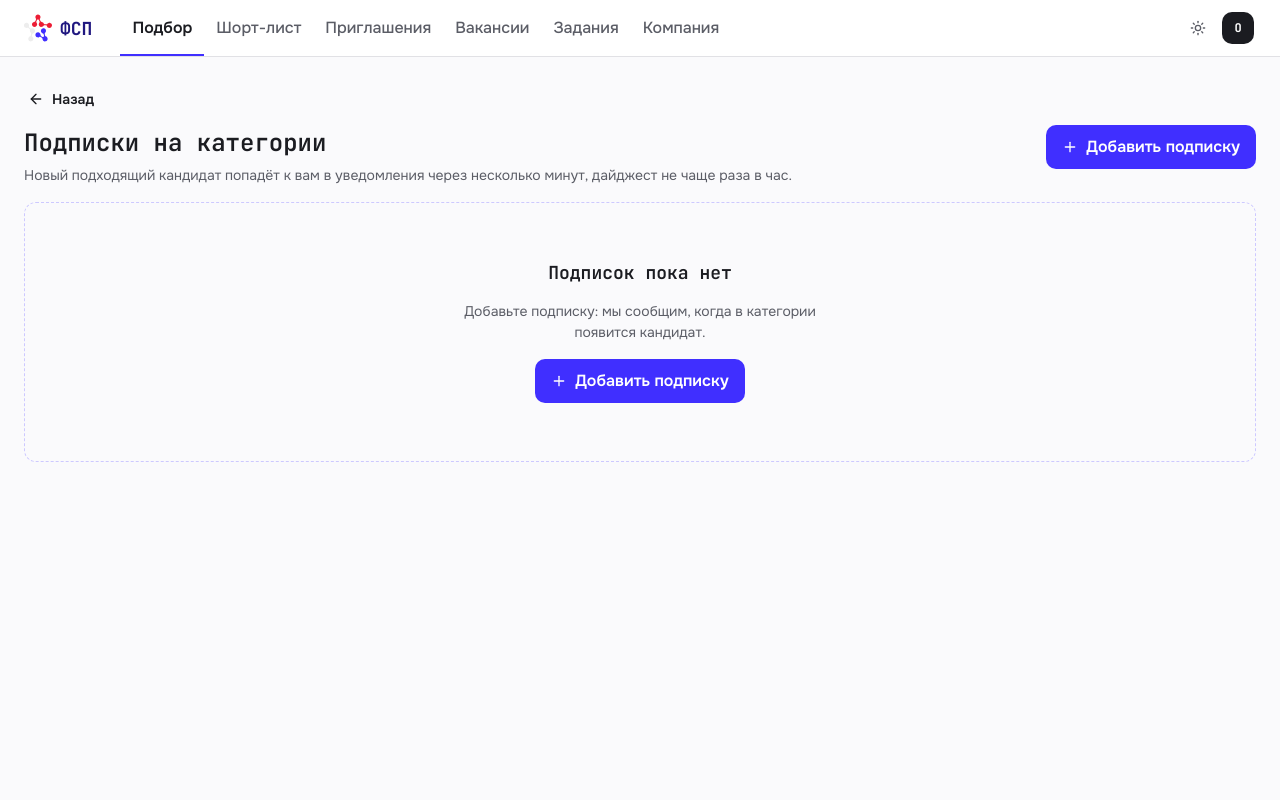
Scenario: подписки: «Назад» в подбор, добавление — модалка с профессией и грейдом
The width and height of the screenshot is (1280, 800).
Check: the text "Подписок пока нет" is shown, box [548,261,732,285]
Click the button with test id "subs-add": (1151, 147) [1046,125,1256,169]
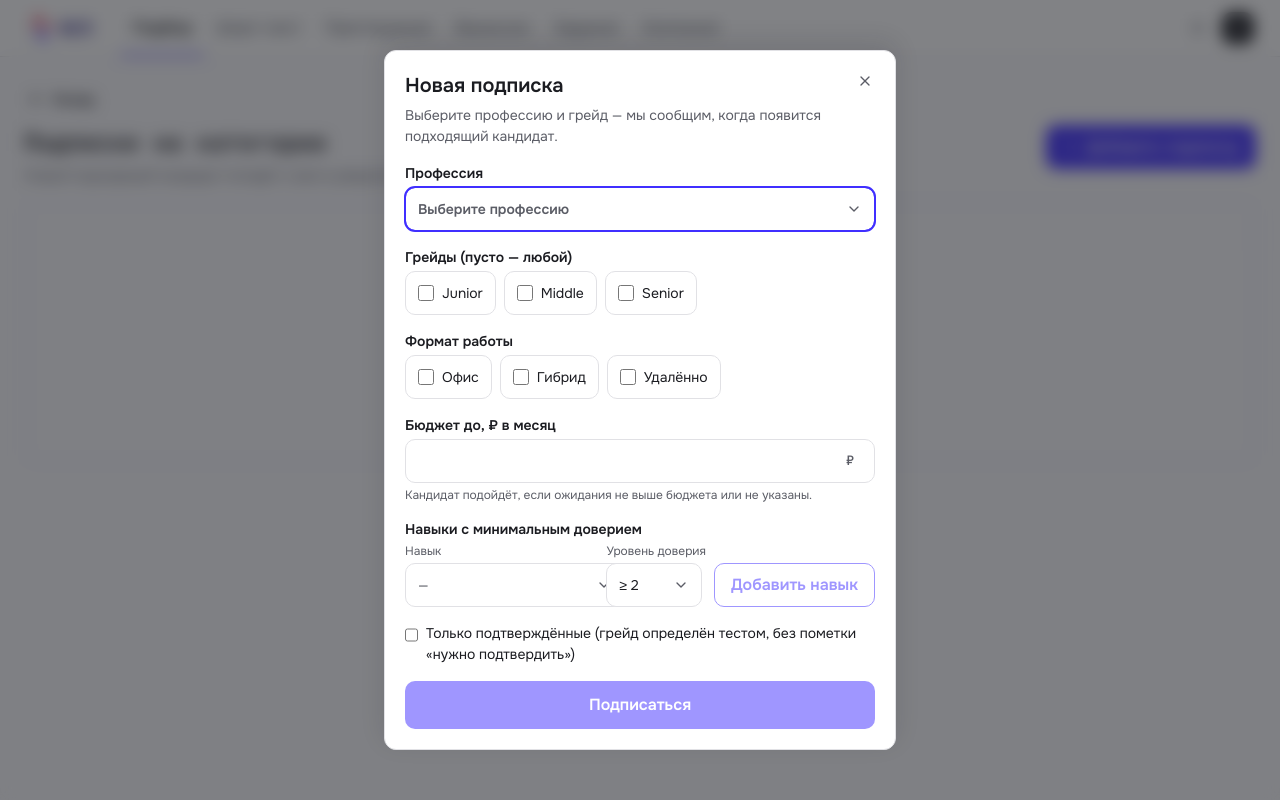
Check: the heading "Новая подписка" is shown, box [405,73,564,98]
Check: the button "Подписаться" is disabled, box [405,681,875,729]
Check: the button named "Закрыть" is shown, box [843,59,887,103]
